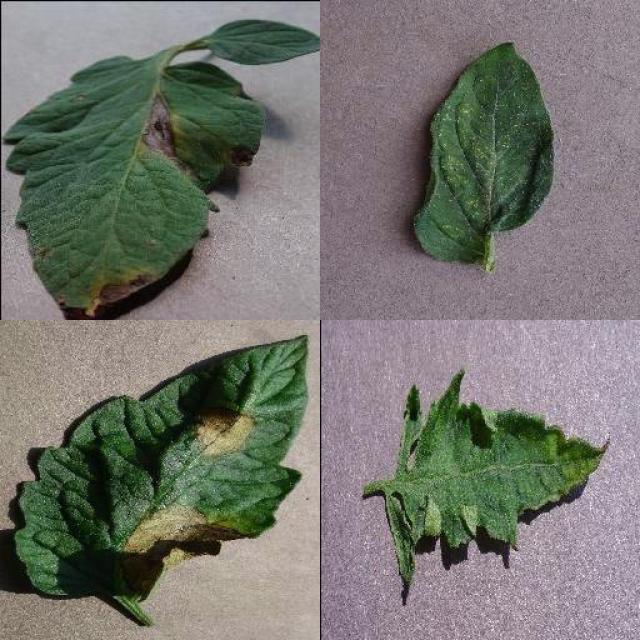Early Blight: (0, 56, 266, 318)
Healthy: (208, 18, 320, 66)
Late Blight: (11, 333, 309, 602)
